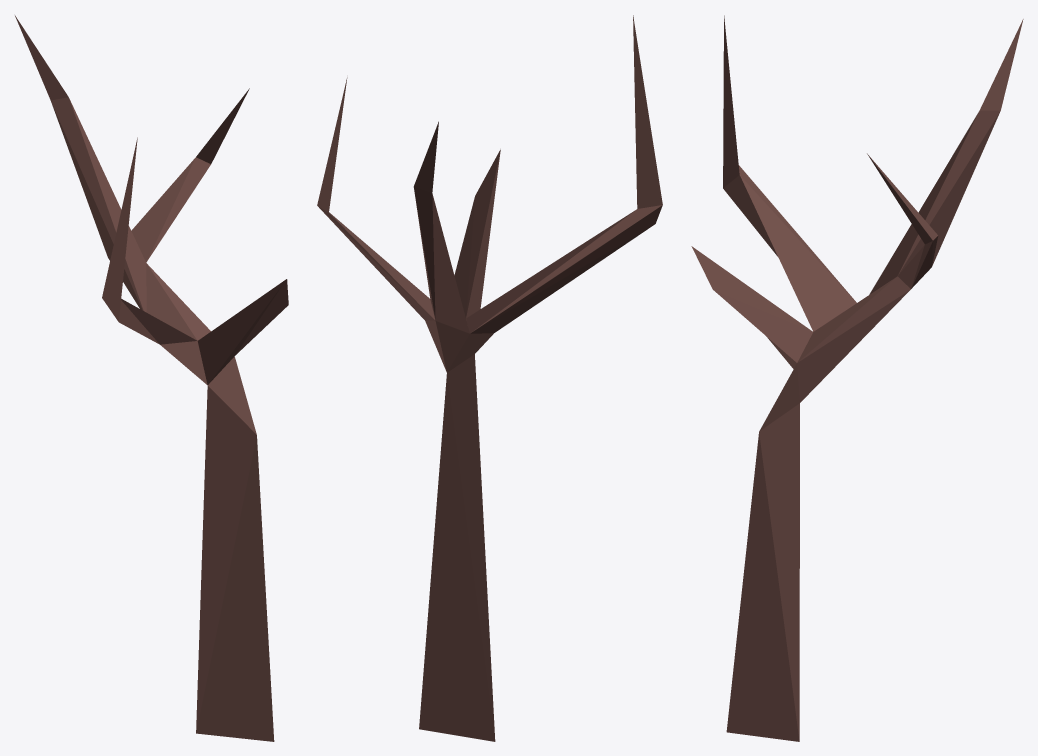
The model's file is CommonTree_Dead_4.lod3.glb.
3 views of the same model, side by side, from view 1: azimuth 30°, elevation 25°; view 2: azimuth 150°, elevation 25°; view 3: azimuth 270°, elevation 25° (orthographic). The views are drawn at different scales.
Visible parts, largest first — view 1: CommonTree_Dead_4; view 2: CommonTree_Dead_4; view 3: CommonTree_Dead_4.
Part boxes in pixels (bbox=[...]): CommonTree_Dead_4: bbox=[15, 15, 288, 741]; CommonTree_Dead_4: bbox=[317, 15, 662, 741]; CommonTree_Dead_4: bbox=[691, 15, 1023, 741].
Size of the model in its own units: 0.8094 by 2.36 by 1.07.
